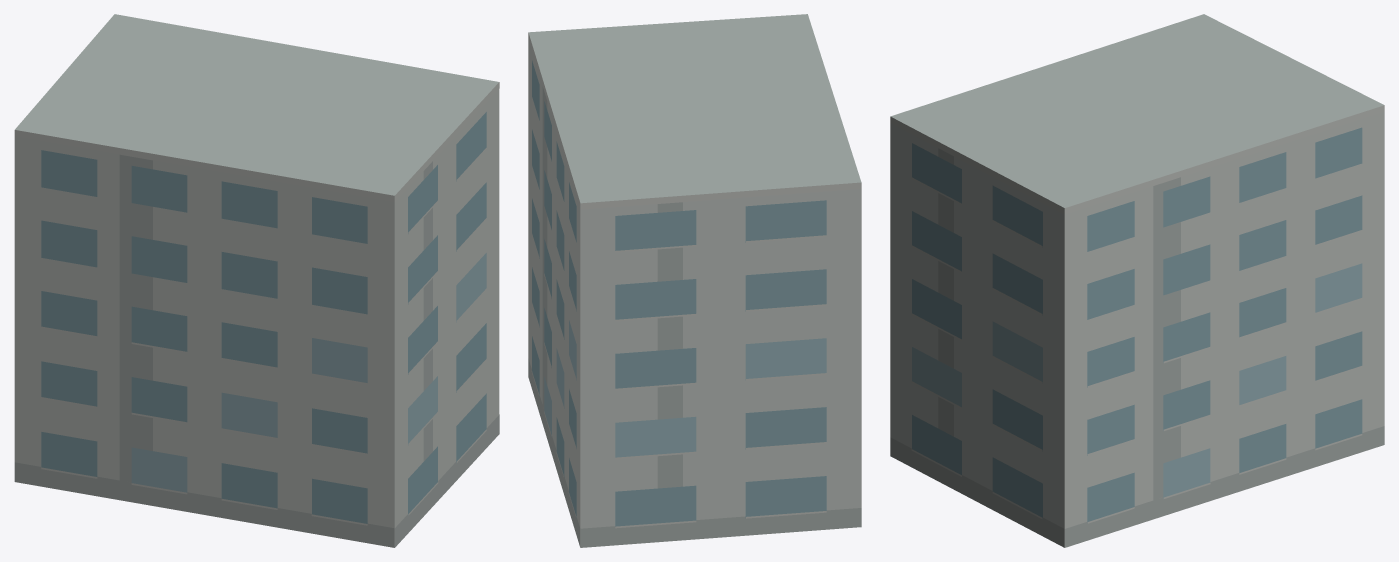
File: survey-upis-32852024.glb
The picture shows the model from 3 angles, left to right: view 1: azimuth 30°, elevation 25°; view 2: azimuth 150°, elevation 25°; view 3: azimuth 270°, elevation 25°; orthographic projection. The views are drawn at different scales.
Parts seen in each view (by area): view 1: survey-upis-32852024.tmp; view 2: survey-upis-32852024.tmp; view 3: survey-upis-32852024.tmp.
Boxes of the visible parts, bbox=[...] form: survey-upis-32852024.tmp: bbox=[14, 14, 499, 547]; survey-upis-32852024.tmp: bbox=[528, 14, 861, 547]; survey-upis-32852024.tmp: bbox=[890, 14, 1384, 547].
Bounding box in the file's own units: 15.82 × 12.9 × 17.02.
